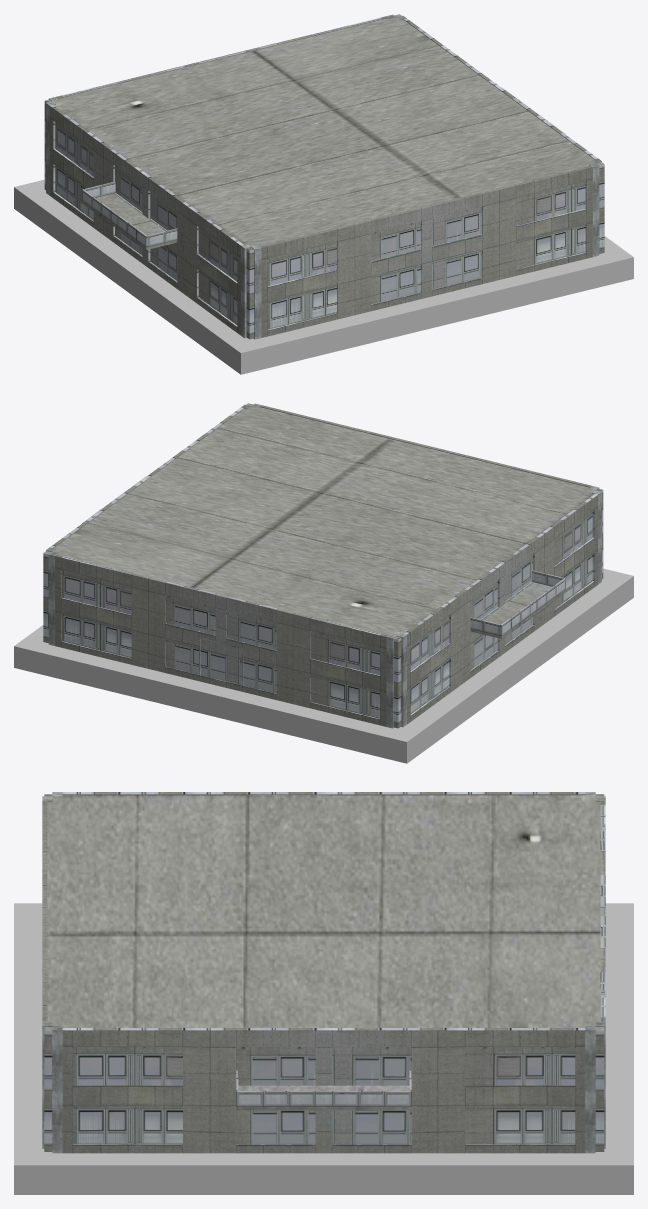
File: BagSS10base_300.fbx
3 renders of one model, top to bottom at view 1: azimuth 30°, elevation 25°; view 2: azimuth 150°, elevation 25°; view 3: azimuth 270°, elevation 25°, orthographic. The views are drawn at different scales.
Parts seen in each view (by area): view 1: baseBox300, baseMain300, baseFound300, baseCrete300; view 2: baseBox300, baseMain300, baseFound300, baseCrete300; view 3: baseBox300, baseMain300, baseFound300, baseCrete300.
Boxes of the visible parts, x1,y1,x2,y2 form: baseBox300: (44, 14, 604, 339); baseMain300: (49, 16, 597, 337); baseFound300: (14, 179, 633, 374); baseCrete300: (46, 14, 601, 339); baseBox300: (43, 403, 603, 728); baseMain300: (50, 405, 598, 726); baseFound300: (14, 568, 633, 763); baseCrete300: (46, 403, 601, 728); baseBox300: (44, 794, 604, 1151); baseMain300: (42, 792, 605, 1153); baseFound300: (14, 903, 633, 1194); baseCrete300: (42, 792, 605, 1153).
Size of the model in its own units: 51.84 by 13.2 by 48.58.
